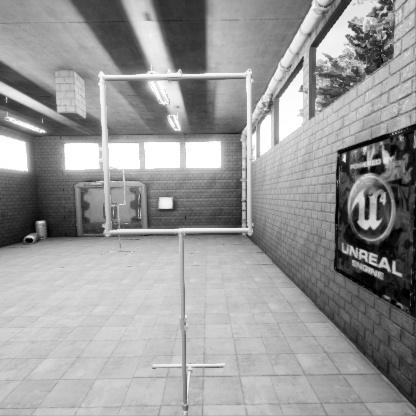gate: (100, 186, 266, 353), (107, 210, 125, 252)
